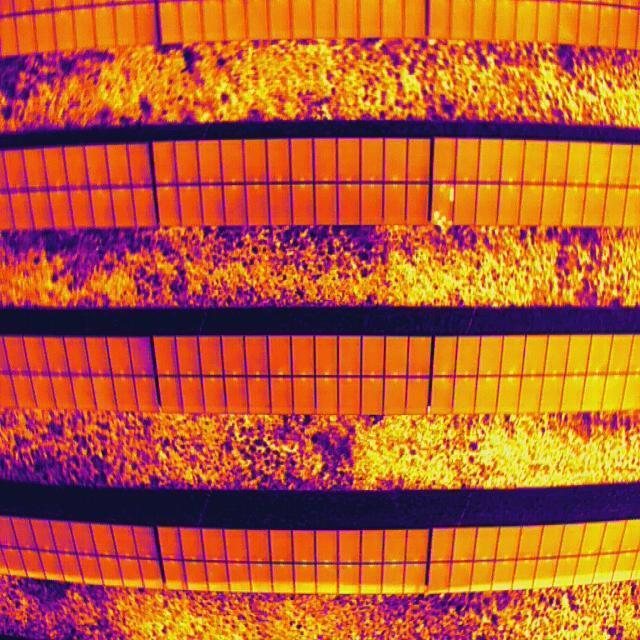hotspot: (432, 182, 454, 222)
